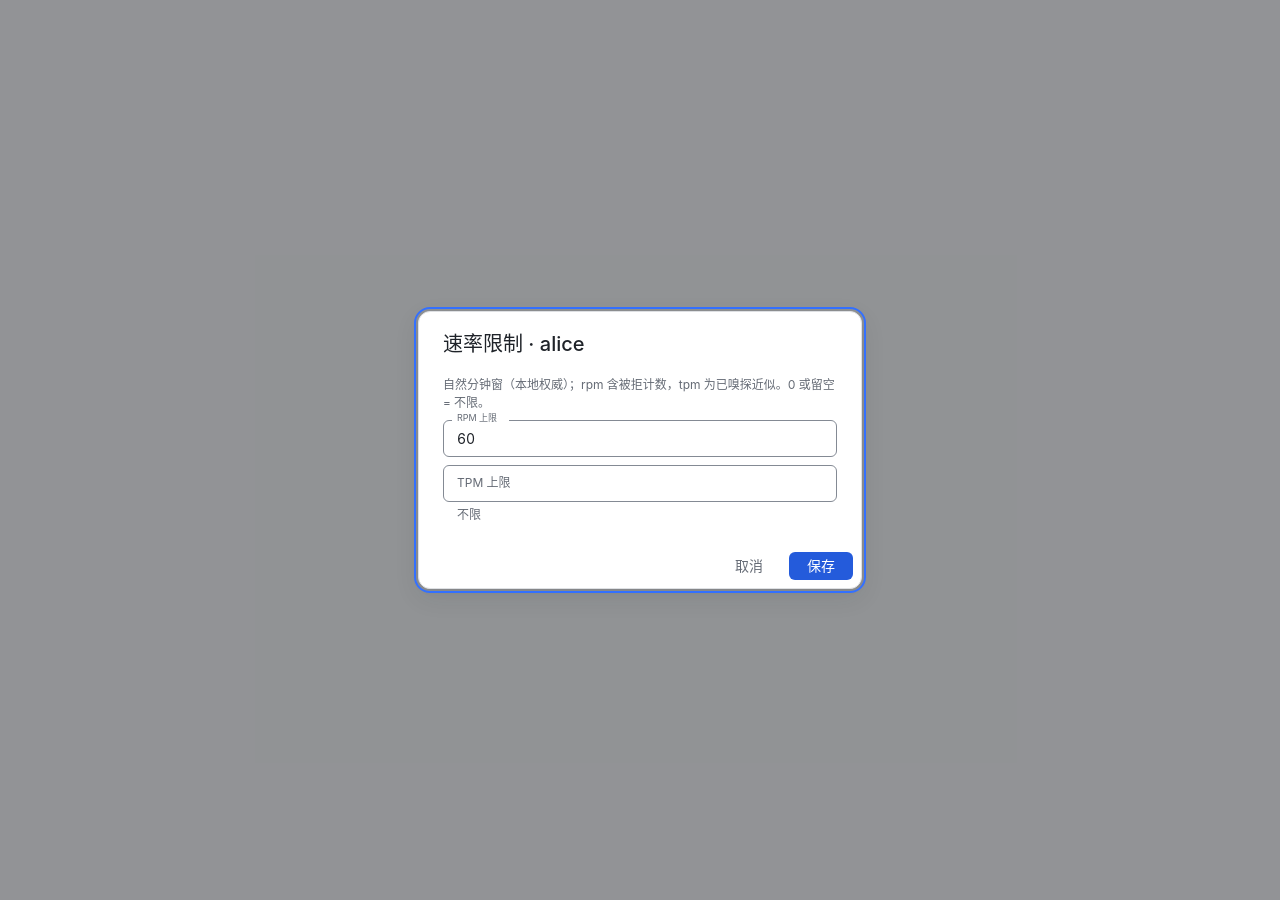
Test: RateLimitDialog（速率限制） › 非数字输入阻止保存并标错（不发请求）
Clear the field labelled "RPM 上限" at (640, 438), box [443,420,837,457]
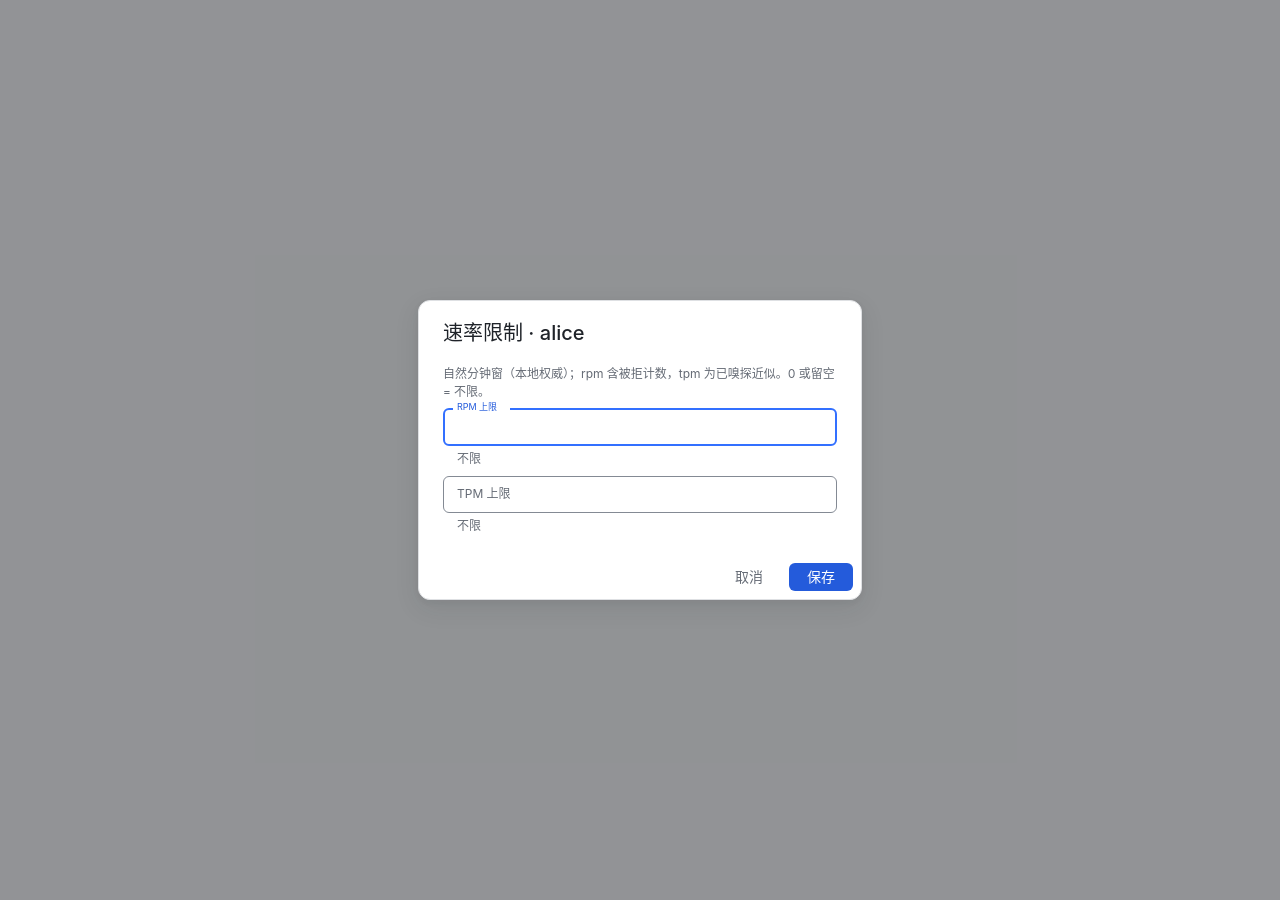
Type "12a" into the field labelled "RPM 上限" at (640, 427), box [443,409,837,446]
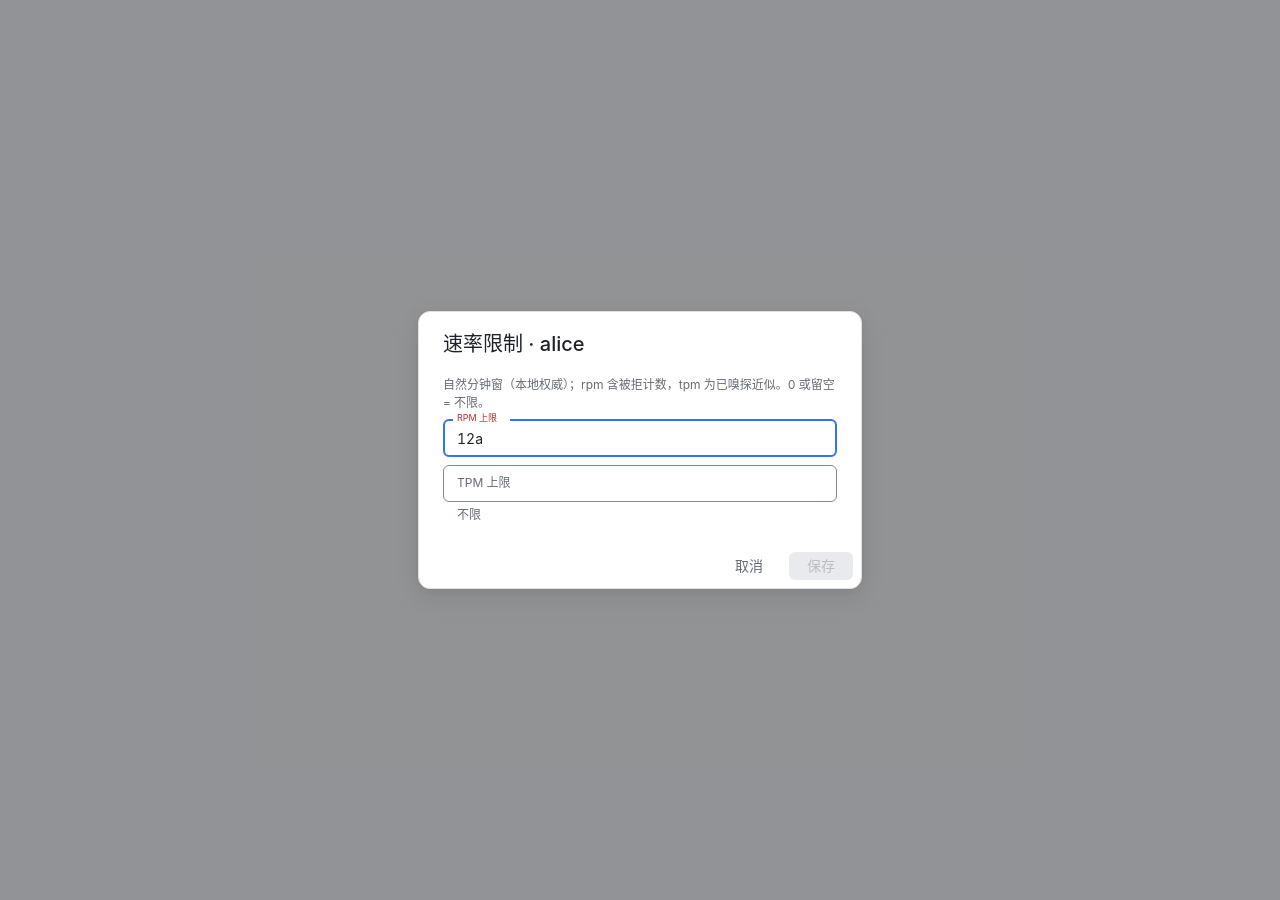
Now the button "保存" is disabled, box [789,552,853,580]
